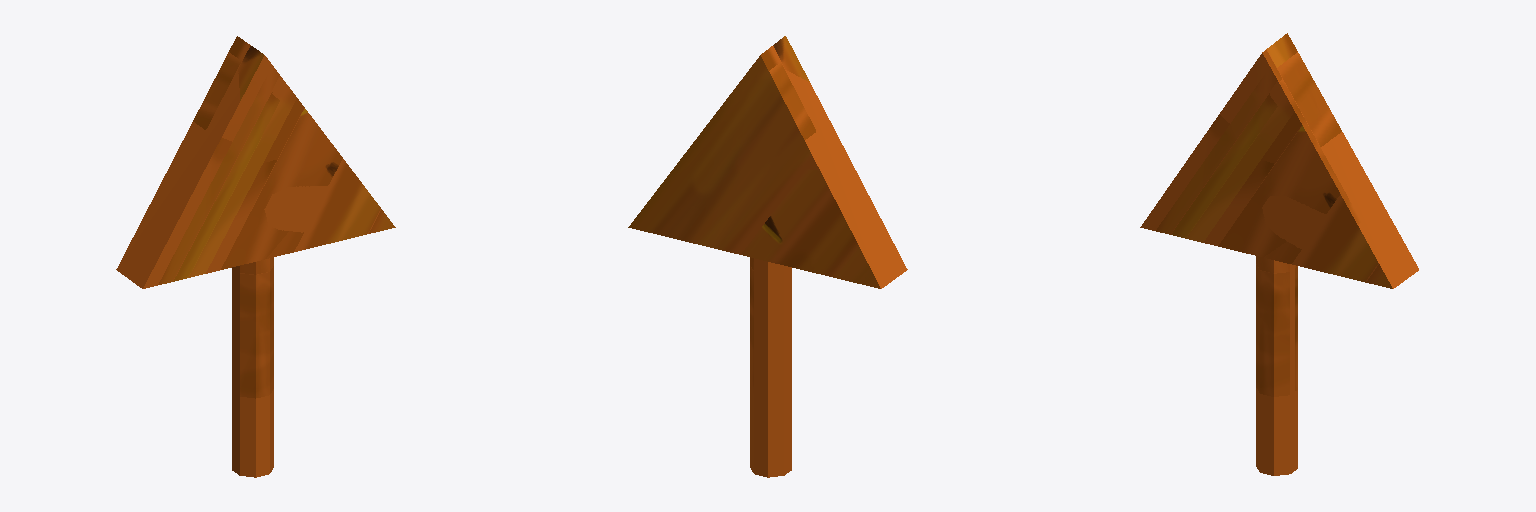
3 views of the same model, side by side, from view 1: azimuth 30°, elevation 25°; view 2: azimuth 150°, elevation 25°; view 3: azimuth 330°, elevation 25° (orthographic).
Parts seen in each view (by area): view 1: Cube; view 2: Cube; view 3: Cube.
Boxes of the visible parts, x1,y1,x2,y2 form: Cube: [116, 36, 395, 477]; Cube: [628, 36, 907, 477]; Cube: [1140, 33, 1418, 475].
Size of the model in its own units: 2.62 by 4.2 by 0.4746.
Materials: 1 (1 with a texture image).